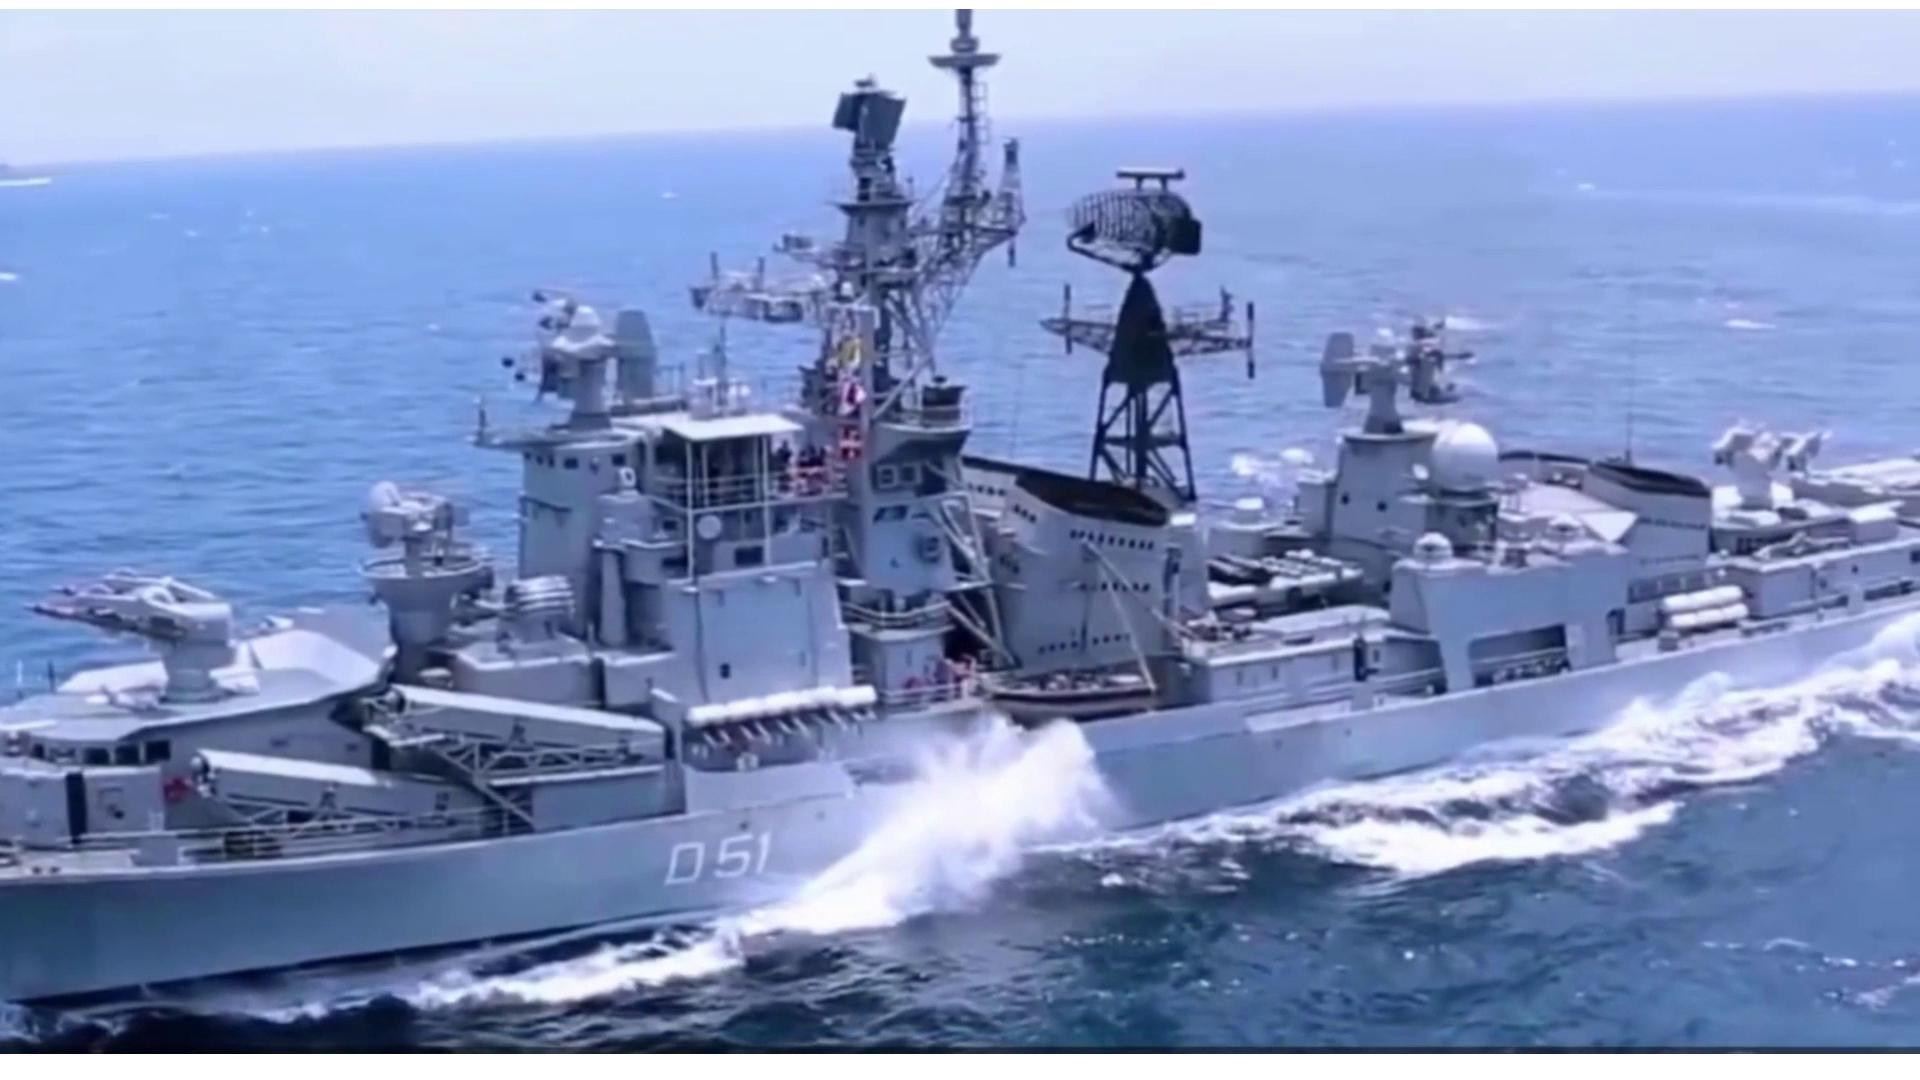OCR: (640, 817, 792, 903)
